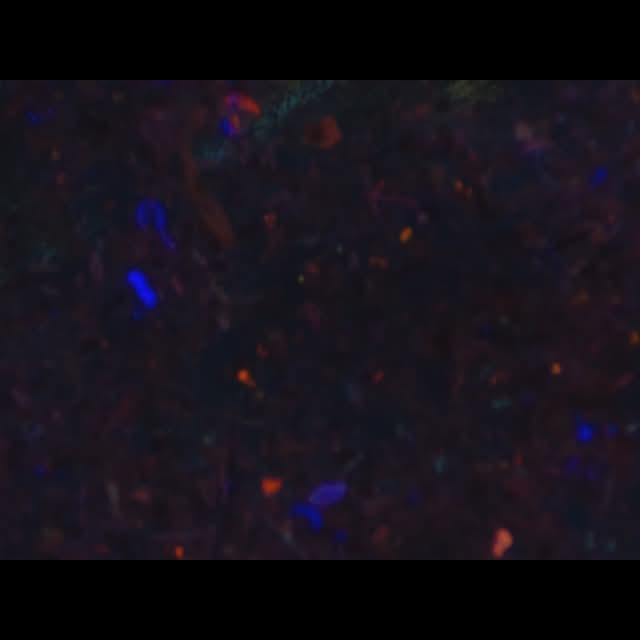Fragment: (492, 526, 514, 556)
